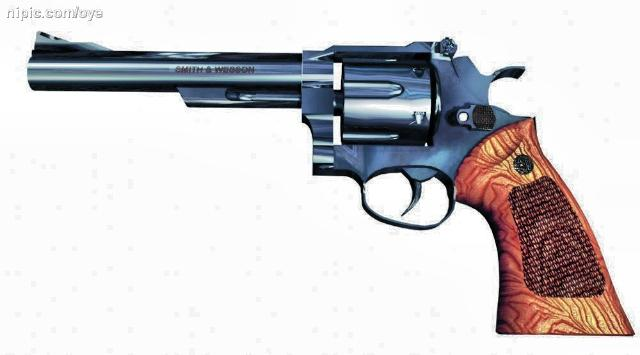pistol: (25, 32, 632, 336)
